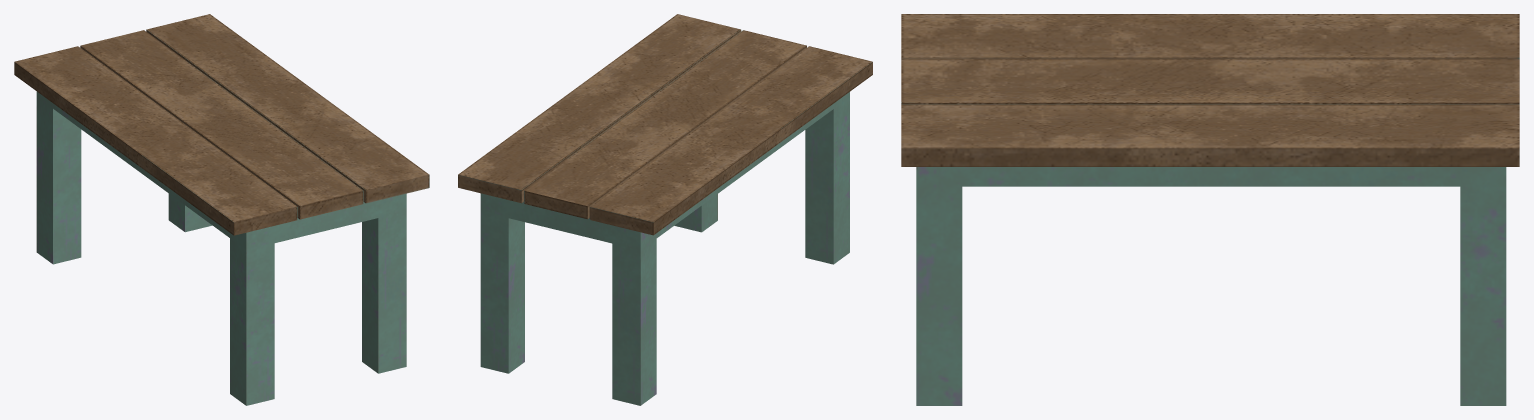
Rendered from tabble.glb.
3 renders of one model, left to right at view 1: azimuth 30°, elevation 25°; view 2: azimuth 150°, elevation 25°; view 3: azimuth 270°, elevation 25°, orthographic. The views are drawn at different scales.
Visible parts, largest first — view 1: planks_low, table_base_low; view 2: planks_low, table_base_low; view 3: planks_low, table_base_low.
Part boxes in pixels (bbox=[...]): planks_low: bbox=[14, 14, 429, 235]; table_base_low: bbox=[36, 91, 406, 405]; planks_low: bbox=[458, 14, 872, 235]; table_base_low: bbox=[480, 92, 849, 405]; planks_low: bbox=[901, 14, 1519, 166]; table_base_low: bbox=[916, 167, 1506, 405].
Size of the model in its own units: 0.7409 by 0.6935 by 1.44.
Materials: 1 (1 with a texture image).
